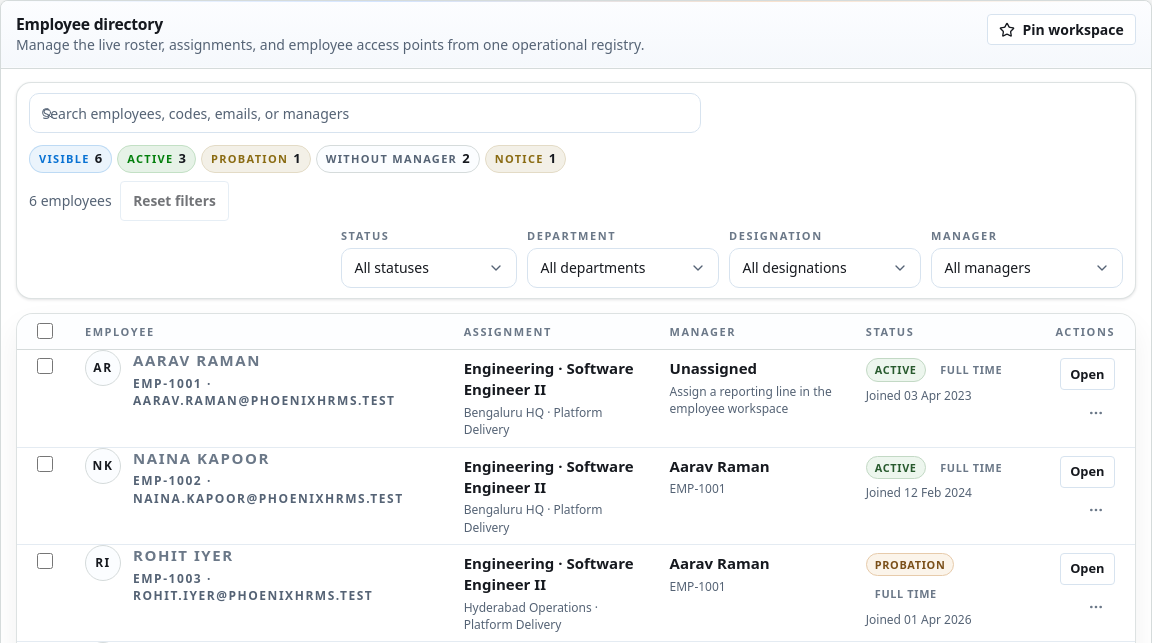
Test: EmployeeDirectoryWorkspace › lets users pin the current employee workspace from the header
The image size is (1152, 643).
Step 1. Click the button "Pin workspace" → (1062, 30), box [987,14,1136,45]
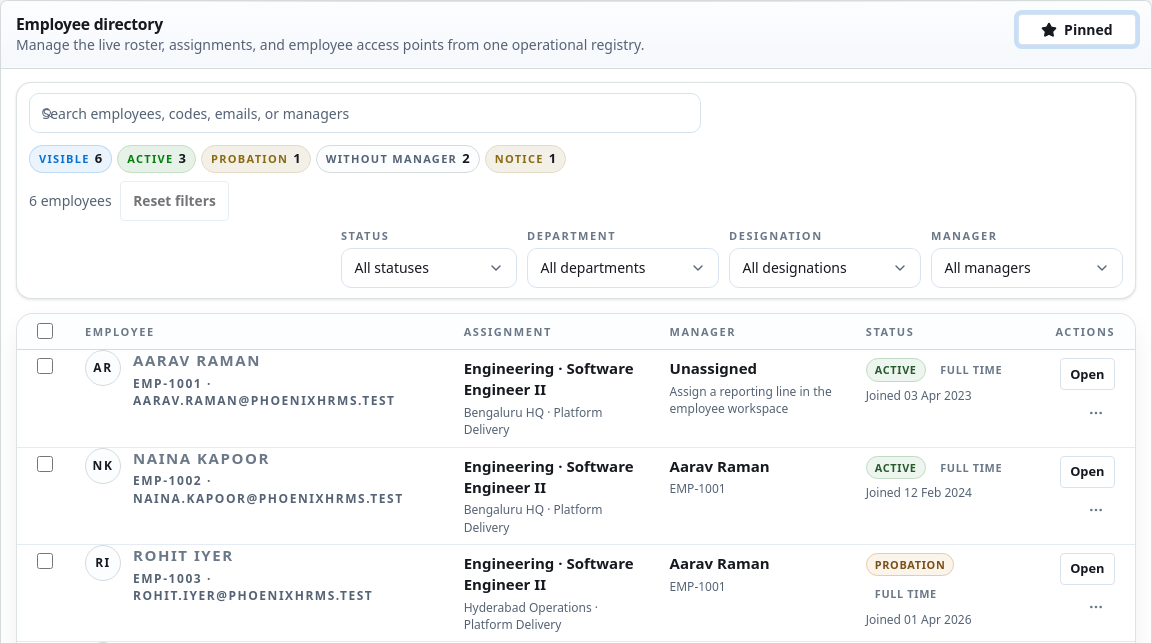
Check: the button "Pinned" is shown, box [1018,14,1136,45]
